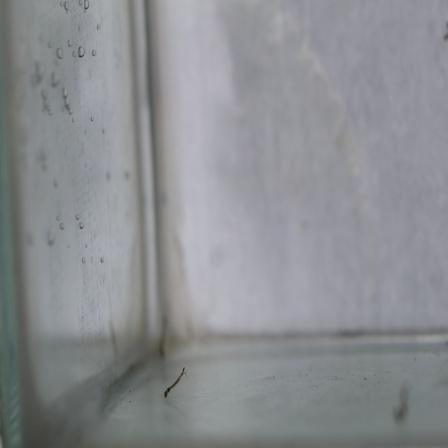Jentik-Nyamuk: (158, 365, 191, 400)
